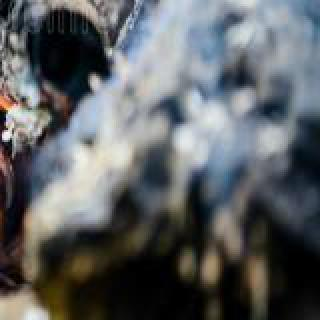fire: (0, 0, 42, 274)
